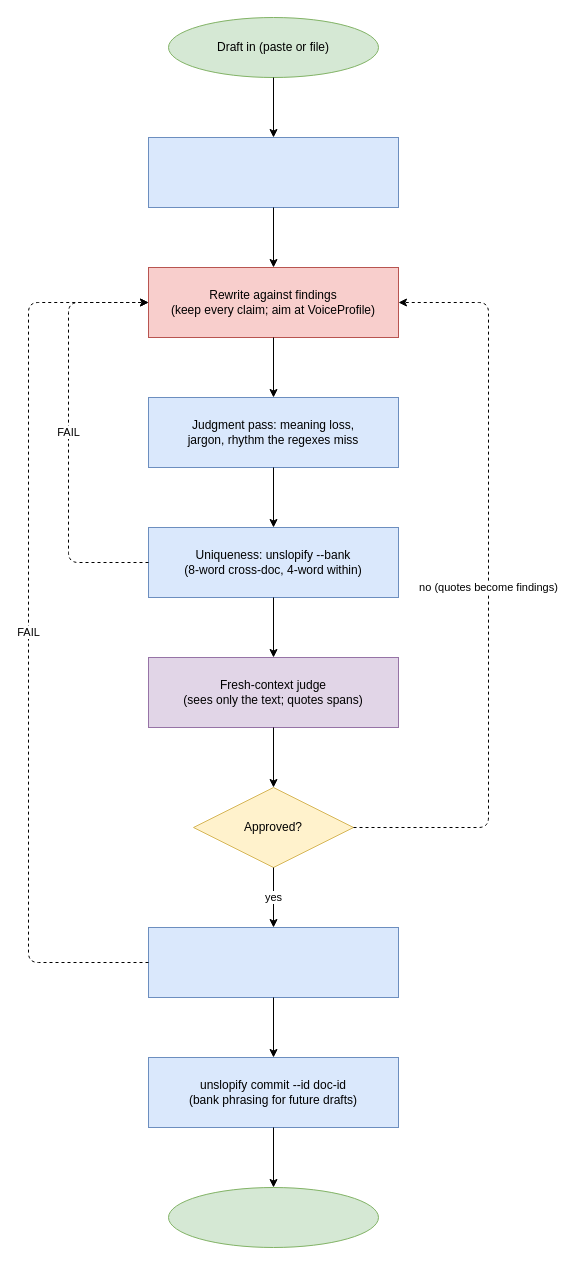
The diagram is 575 pixels wide and 1265 high, and some of its shapes have lost their labels. Each missing label, with the box of its shape:
Audit: unslopify DRAFT.md --brief (named types + mechanics): (148, 136, 398, 208)
Clean text + JSON audit log: (168, 1186, 378, 1248)
Final gate: unslopify DRAFT.md must print PASS: (148, 926, 398, 998)
